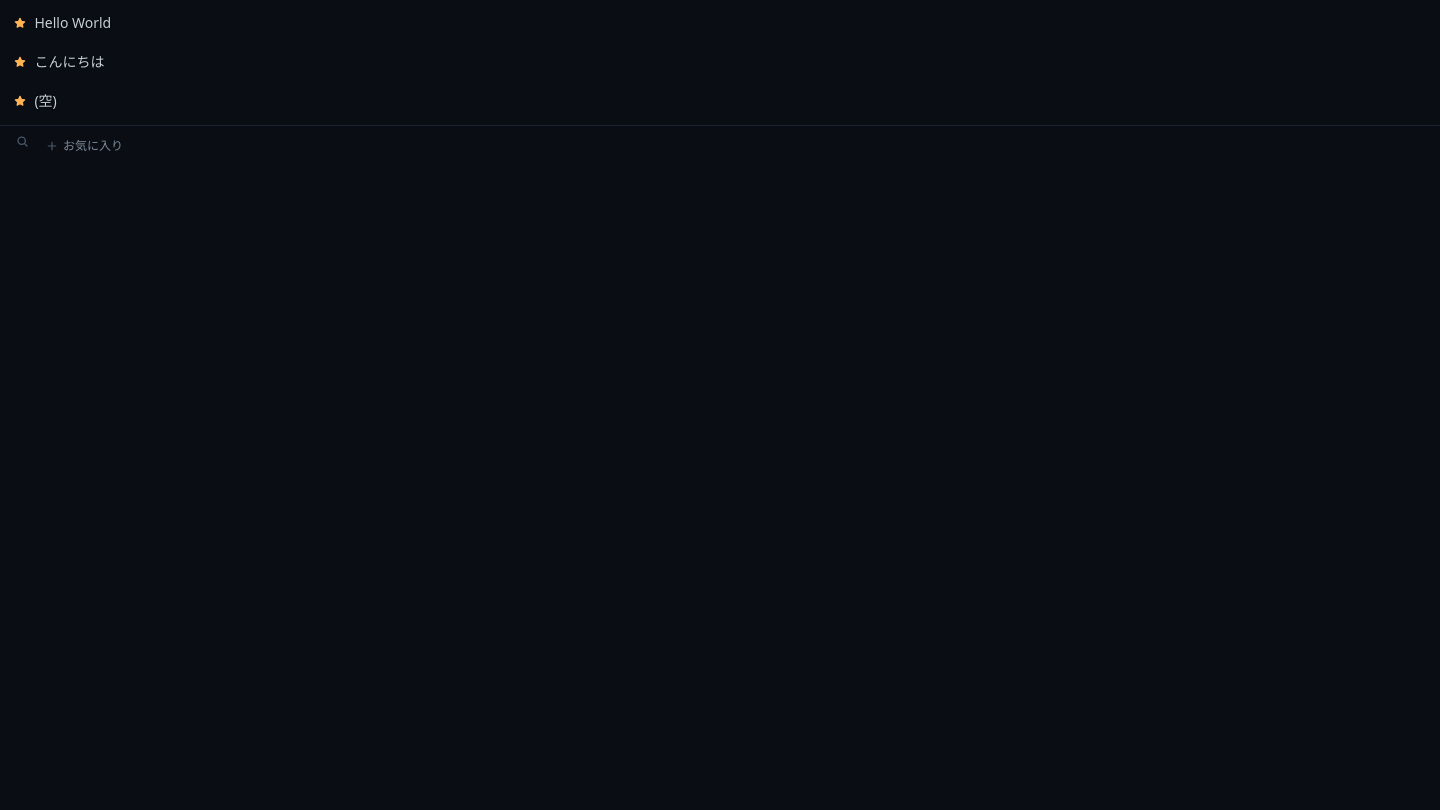
Test: FavoritesPopover › 検索と追加は同時に開かず、閉じると検索語も消える
Click the button named "検索". click: x=23, y=144
box: [12,133,34,154]
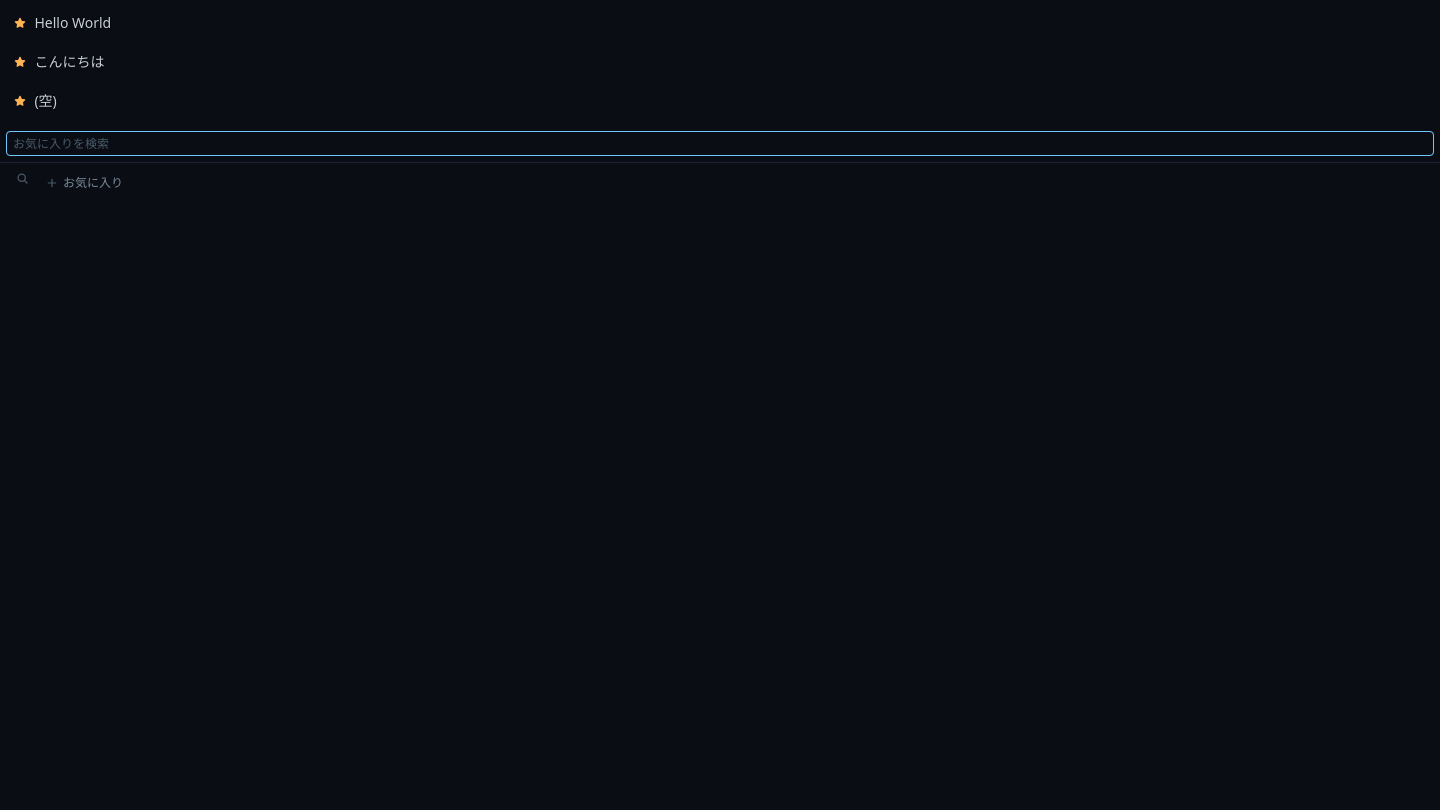
Type "hello" into the search field named "お気に入りを検索". click: x=720, y=143
box: [6,131,1434,156]
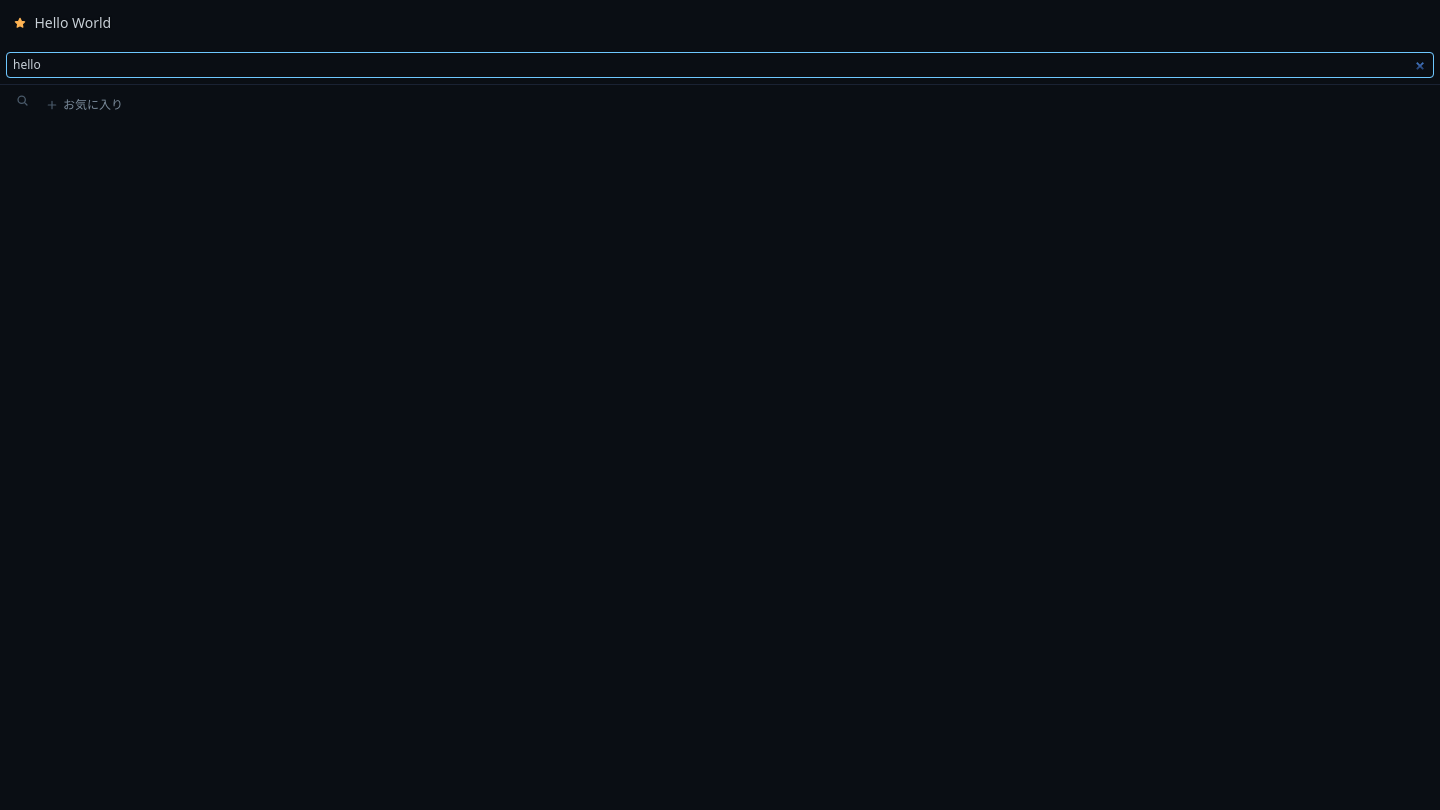
Click the button "お気に入り". click: x=84, y=105
box: [40,92,129,118]
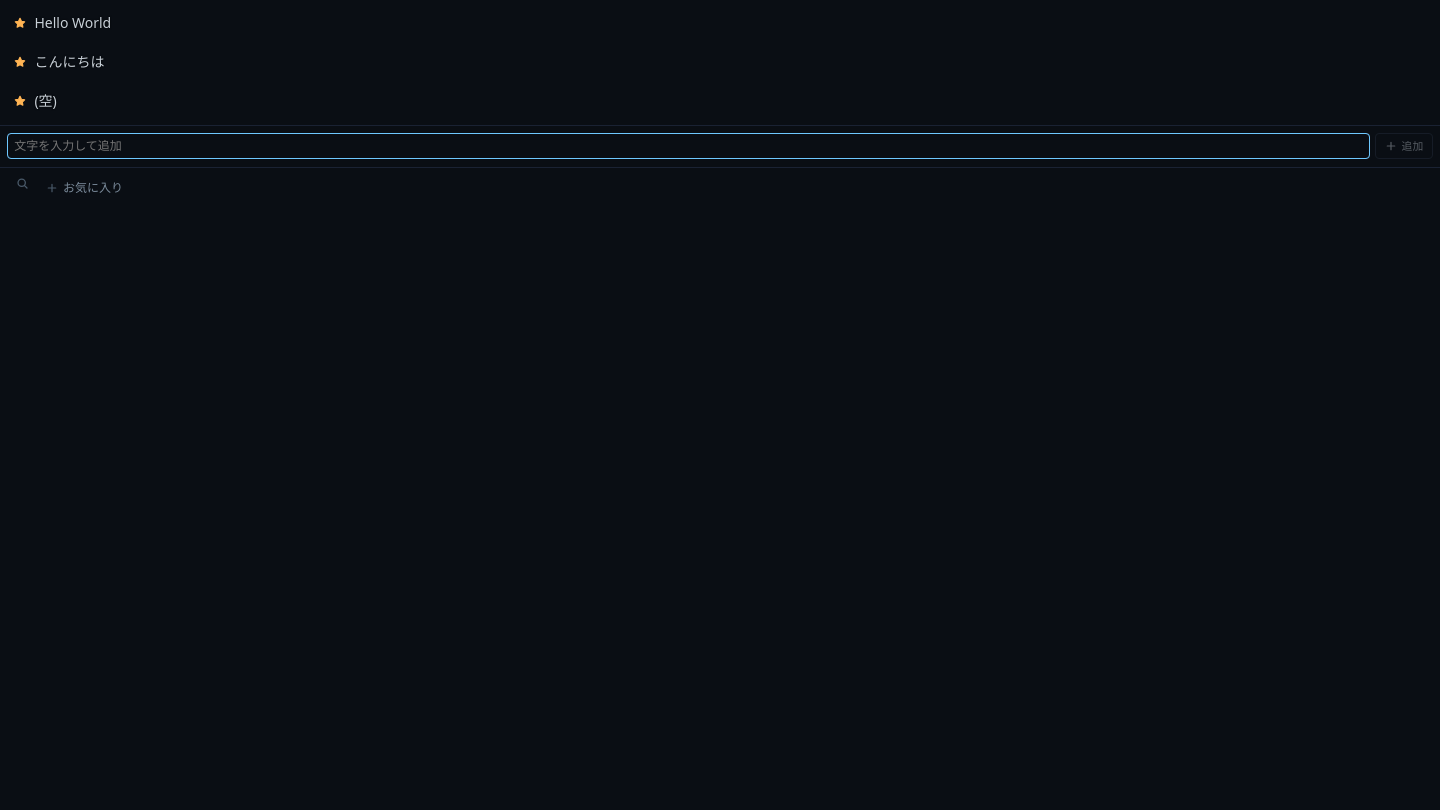
Check: the search field named "お気に入りを検索" is gone
Check: the form is shown, box [0,125,1439,167]
